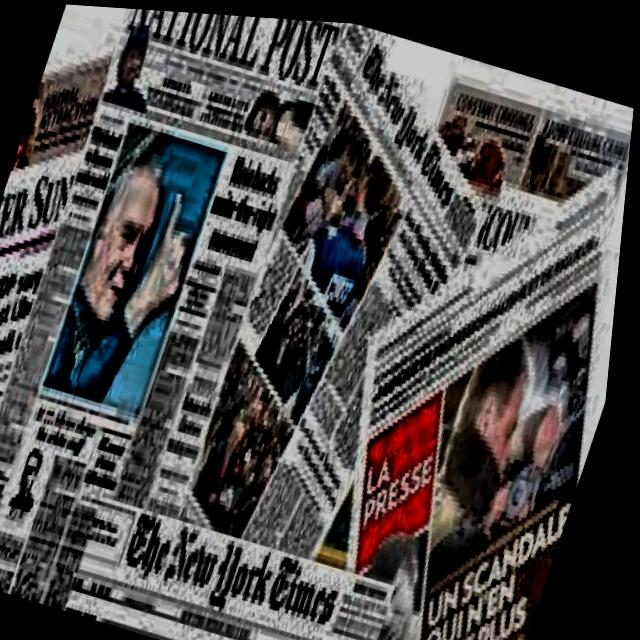Paper: (0, 0, 342, 634), (270, 97, 634, 640), (183, 12, 533, 568), (347, 61, 637, 458), (0, 30, 116, 575), (68, 479, 415, 640)
